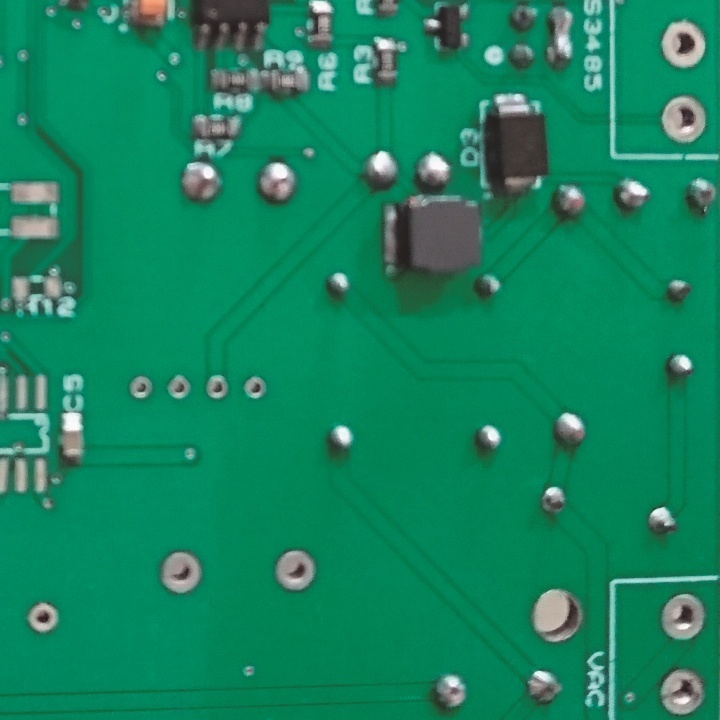F: (657, 592, 708, 643), (659, 18, 707, 72), (658, 667, 707, 718), (659, 95, 707, 146), (273, 545, 318, 593), (159, 546, 201, 597), (27, 599, 60, 635), (204, 372, 230, 403), (243, 372, 267, 403), (167, 374, 192, 403), (129, 373, 153, 402)
